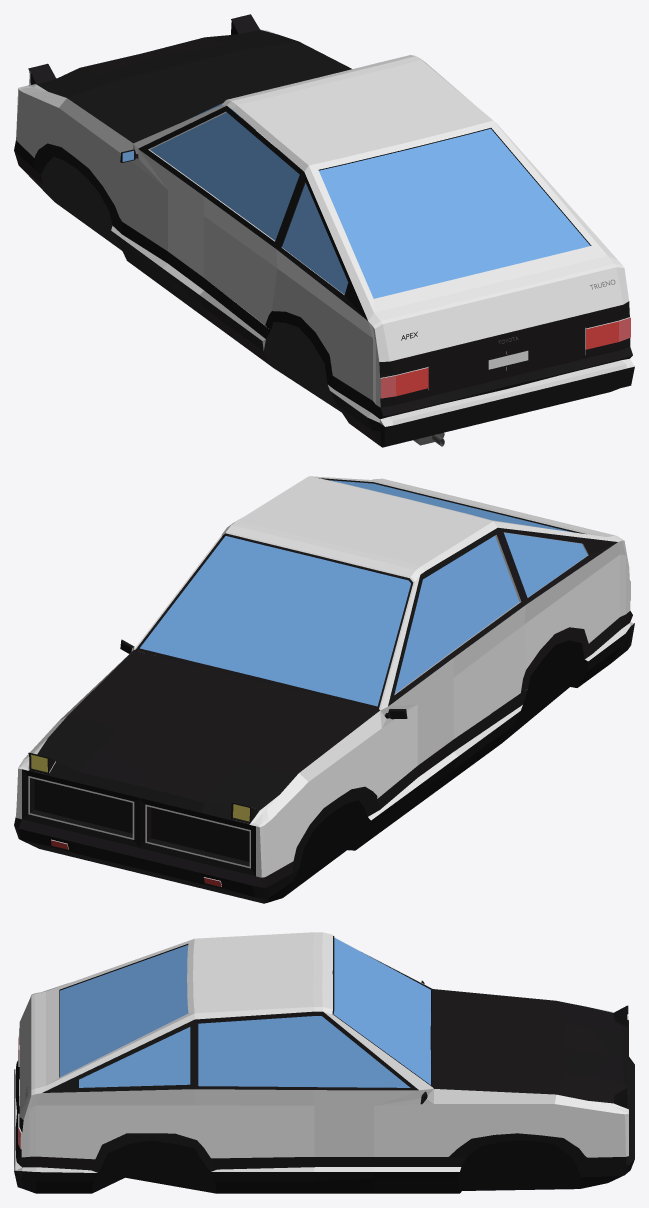
File: lopullinenlopullinentrueno.fbx
3 renders of one model, top to bottom at view 1: azimuth 30°, elevation 25°; view 2: azimuth 150°, elevation 25°; view 3: azimuth 270°, elevation 25°, orthographic. The views are drawn at different scales.
Parts seen in each view (by area): view 1: Cube; view 2: Cube; view 3: Cube.
Boxes of the visible parts, left/top/right/bottom form: Cube: left=14, top=14, right=634, bottom=447; Cube: left=14, top=476, right=634, bottom=903; Cube: left=14, top=932, right=634, bottom=1193.
Bounding box in the file's own units: 625 × 1414 × 464.
